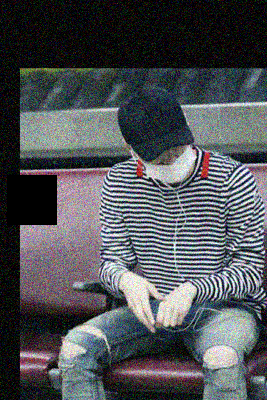mask_weared_incorrect: (136, 145, 198, 185)
